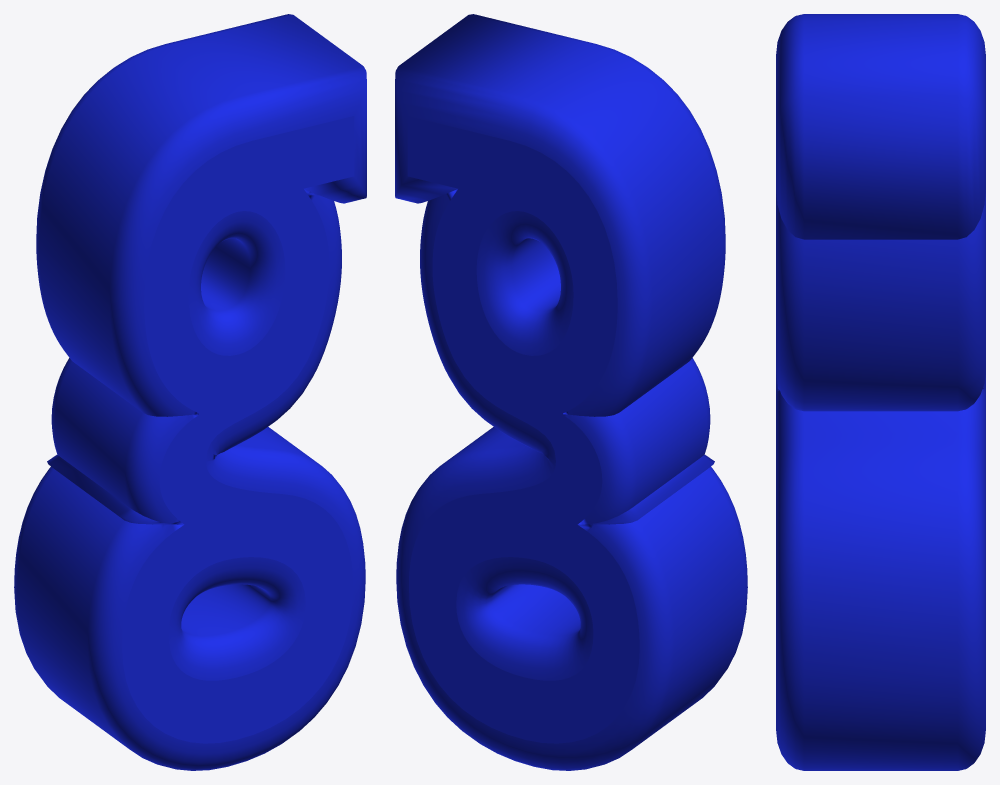
File: LetterSmallG.gltf
The picture shows the model from 3 angles, left to right: view 1: azimuth 30°, elevation 25°; view 2: azimuth 150°, elevation 25°; view 3: azimuth 270°, elevation 25°; orthographic projection. The views are drawn at different scales.
Visible parts, largest first — view 1: Text; view 2: Text; view 3: Text.
Boxes of the visible parts, x1,y1,x2,y2 form: Text: [14, 14, 366, 770]; Text: [395, 14, 747, 770]; Text: [776, 14, 985, 770].
Bounding box in the file's own units: 0.5011 × 1.15 × 0.3.
